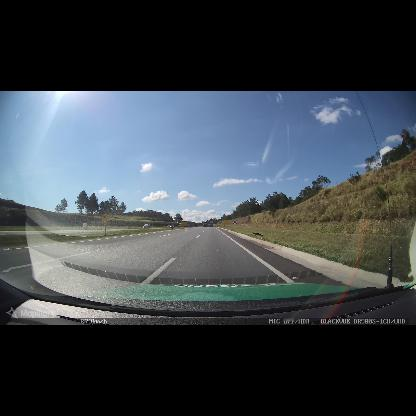R-6c: (233, 220, 237, 224)
